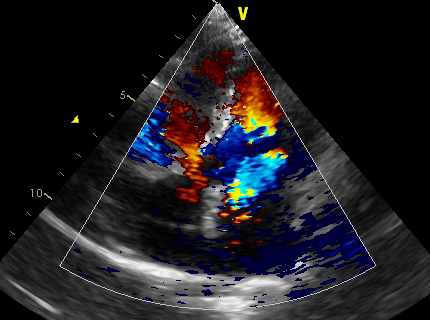MR: (223, 153, 286, 207)
